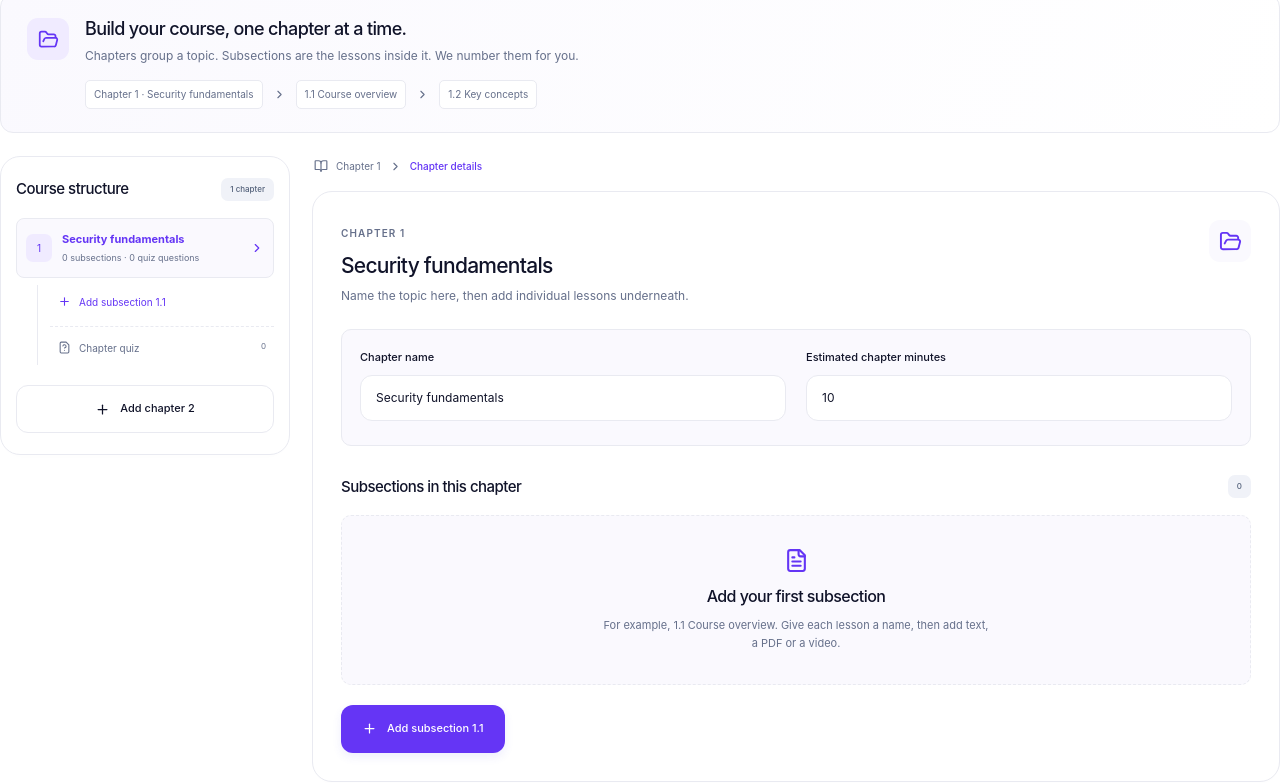
chapter-first curriculum authoring › adds a subsection inside the selected chapter, not another chapter
This screenshot has width=1280, height=783.
Click the button "Add subsection 1.1" below "Course structure": (162, 302) [50,285,274,319]
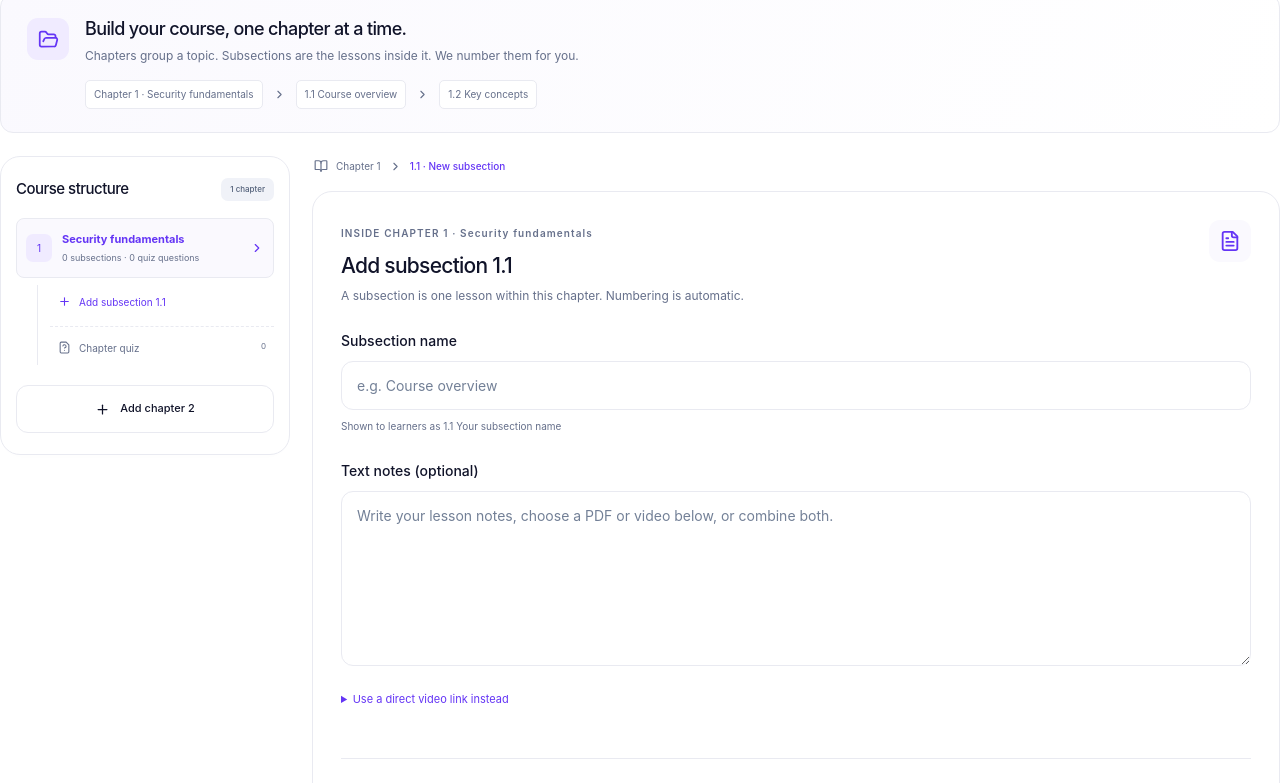
expect the heading "Add subsection 1.1" is shown: met, box [341,253,512,278]
expect the text "INSIDE CHAPTER 1 · Security fundamentals" is shown: met, box [341,227,593,239]
In the field labelled "Subsection name": (796, 386) [341,361,1251,410], type "Course overview"
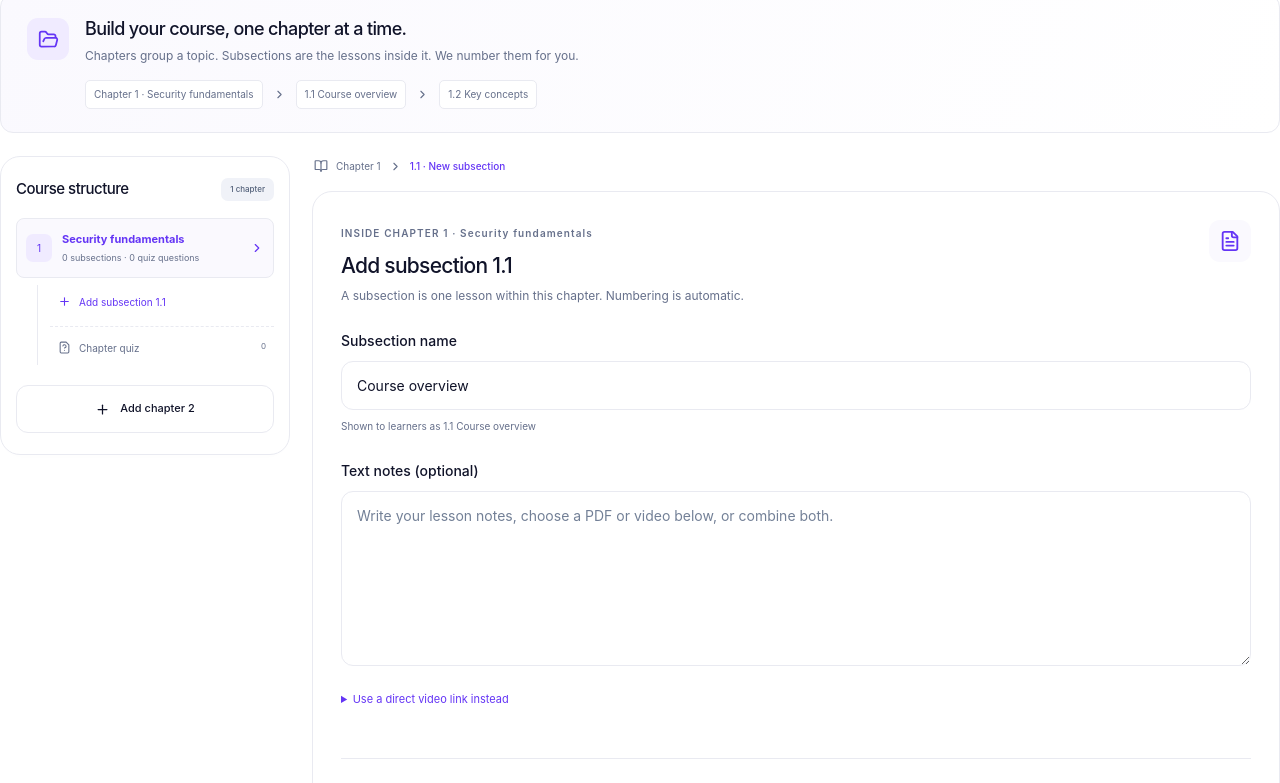
Replace the text in the text box labelled "Text notes (optional)" with "Welcome to the course.": (796, 578) [341,491,1251,666]
(page scrolled)
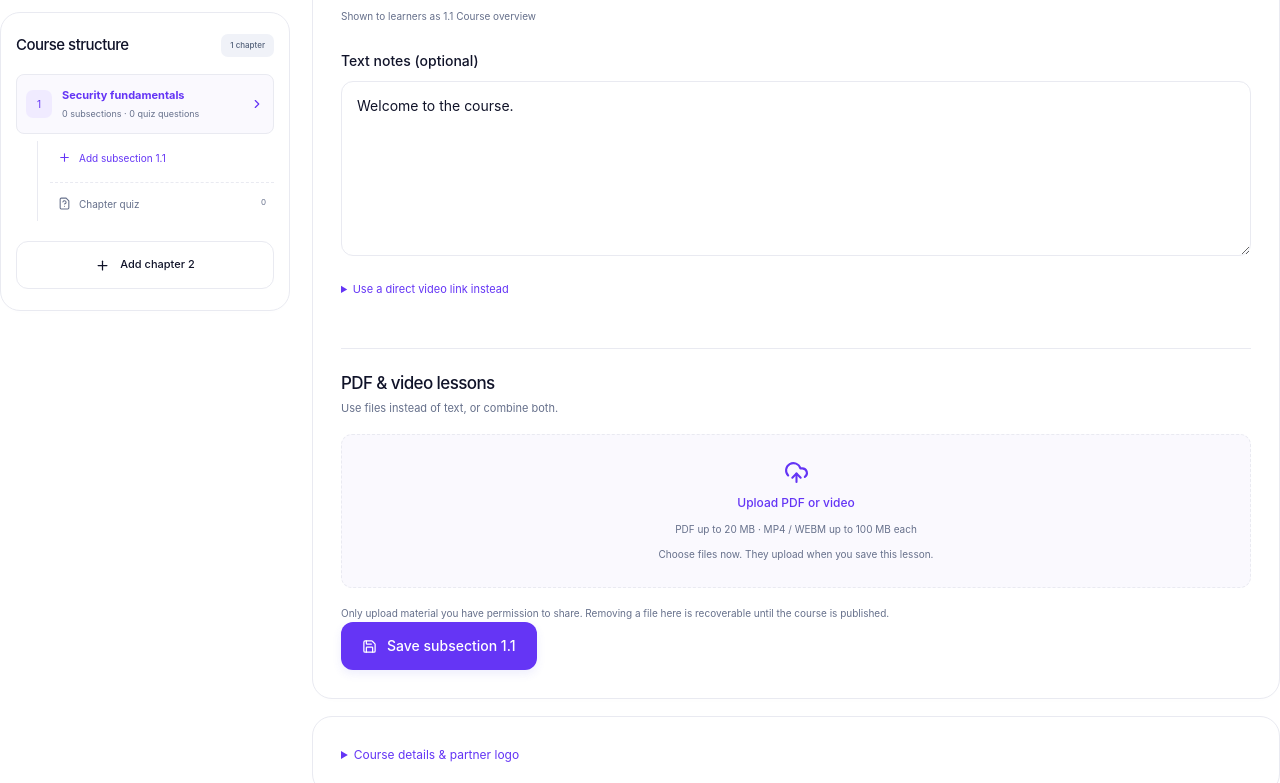
Click the button "Save subsection 1.1": (439, 646) [341,622,536,670]
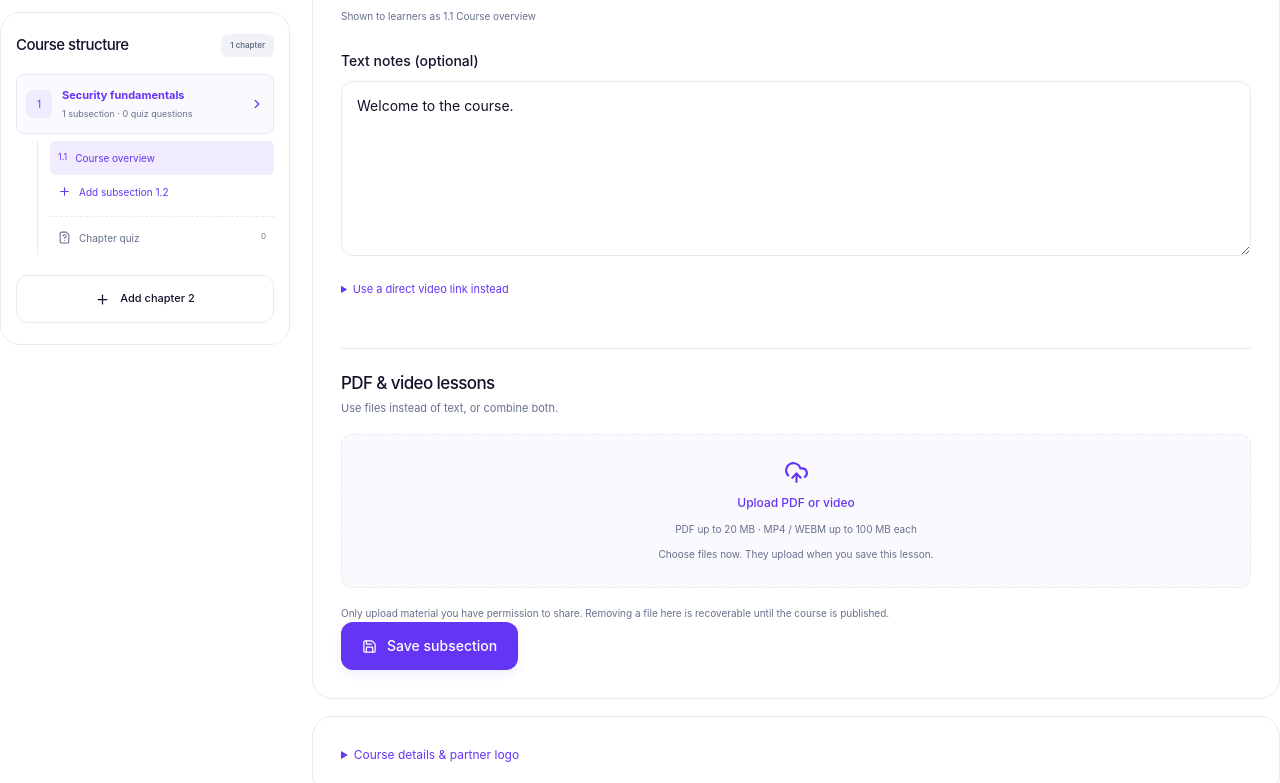
expect the file field labelled "Upload PDF or video" is shown: met, box [341,434,1251,588]
expect the button "1.1 Course overview" is shown: met, box [50,141,274,175]
